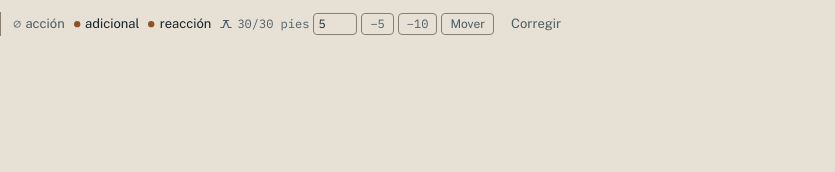
EconomiaDeAccion › con esDm y algo ya gastado, su casilla de «Corregir» está marcada y deshabilitada
Click the button "Corregir". click: (536, 24)
box: [502, 12, 570, 36]
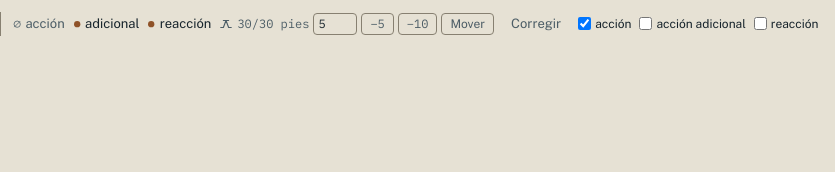
Expected: the checkbox labelled "acción" is checked, [578, 17, 591, 30]
Expected: the checkbox labelled "acción" is enabled, [578, 17, 591, 30]
